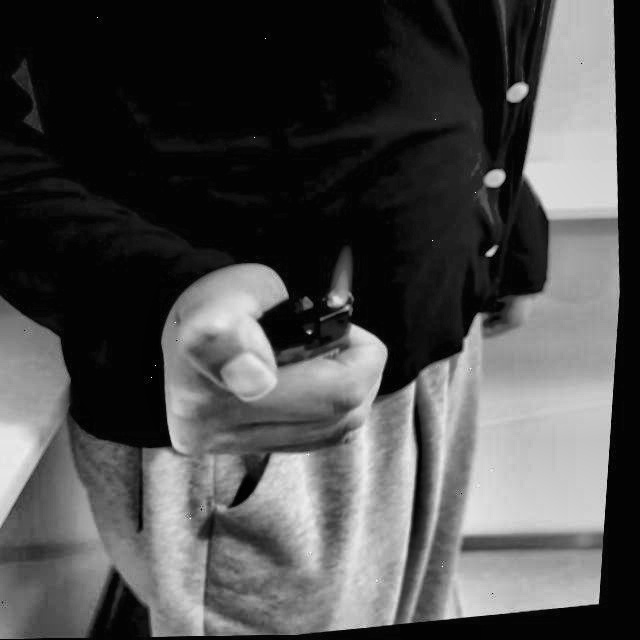Fire: (328, 240, 362, 309)
